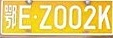E: (19, 5, 31, 29)
